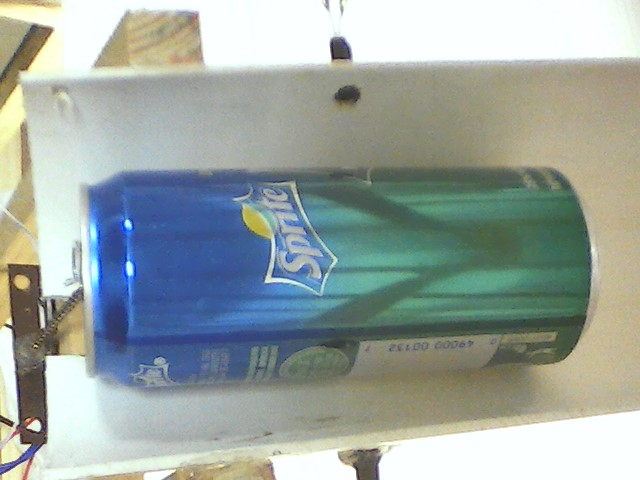lata: (75, 159, 600, 395)
